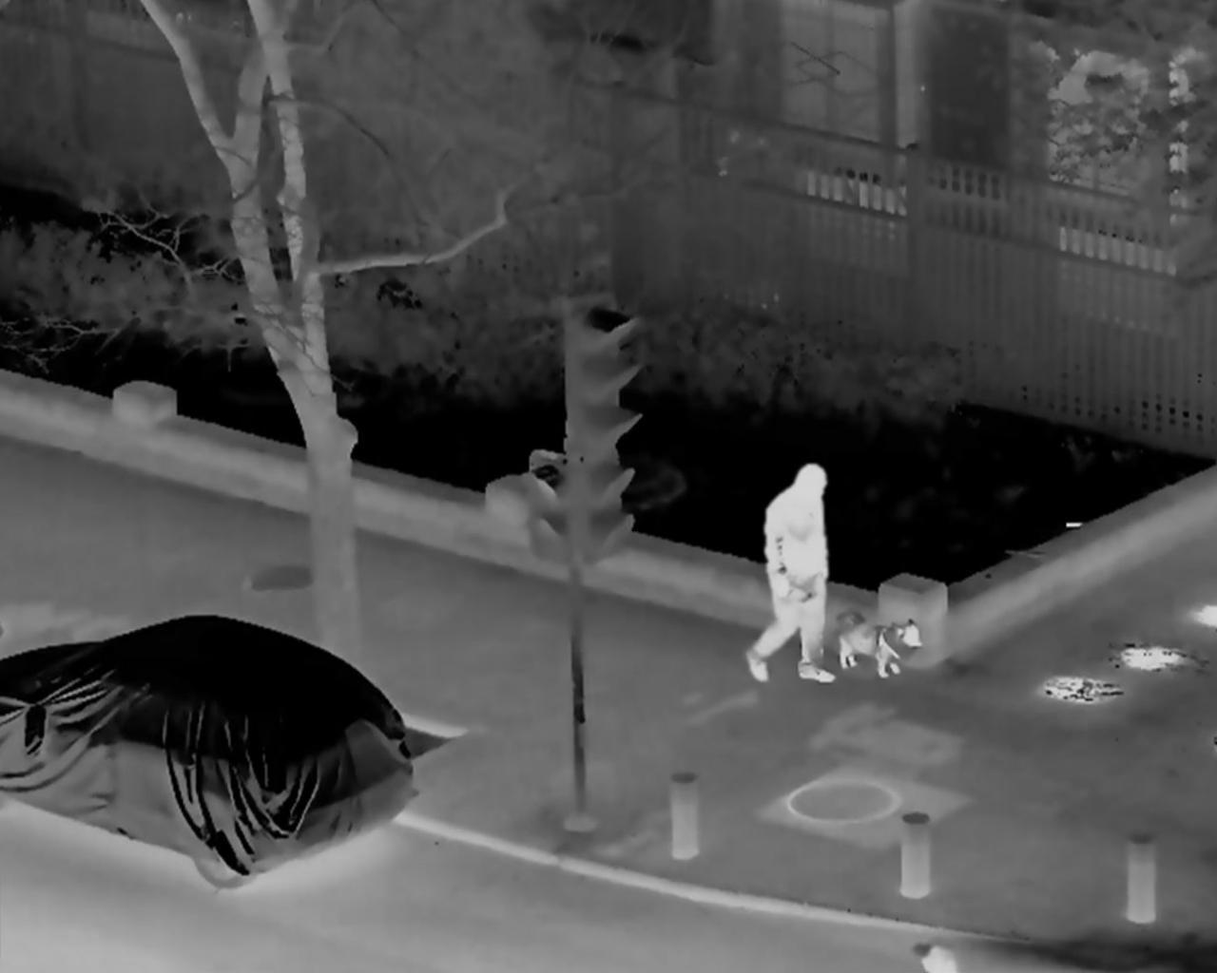person: (745, 465, 837, 685)
